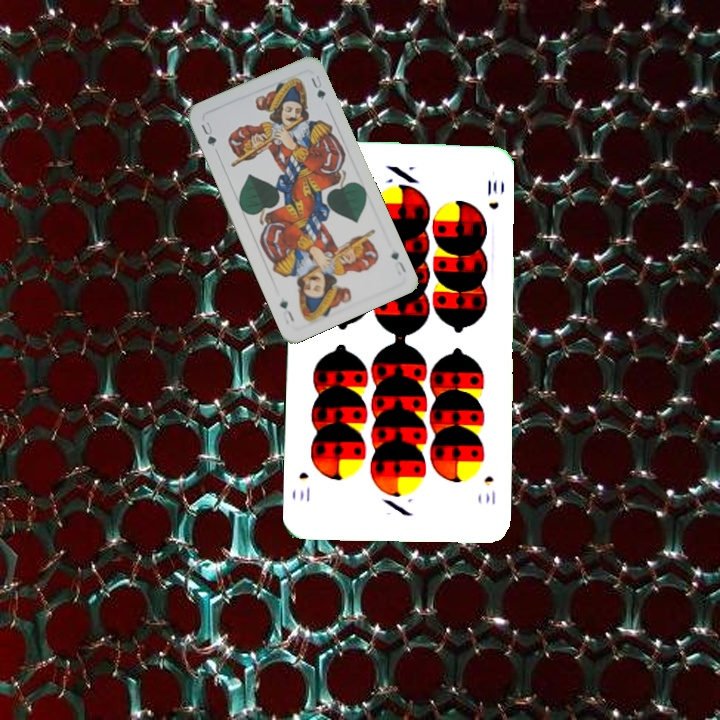GU: (197, 117, 219, 149), (387, 248, 408, 278)
S10: (480, 472, 498, 507)
